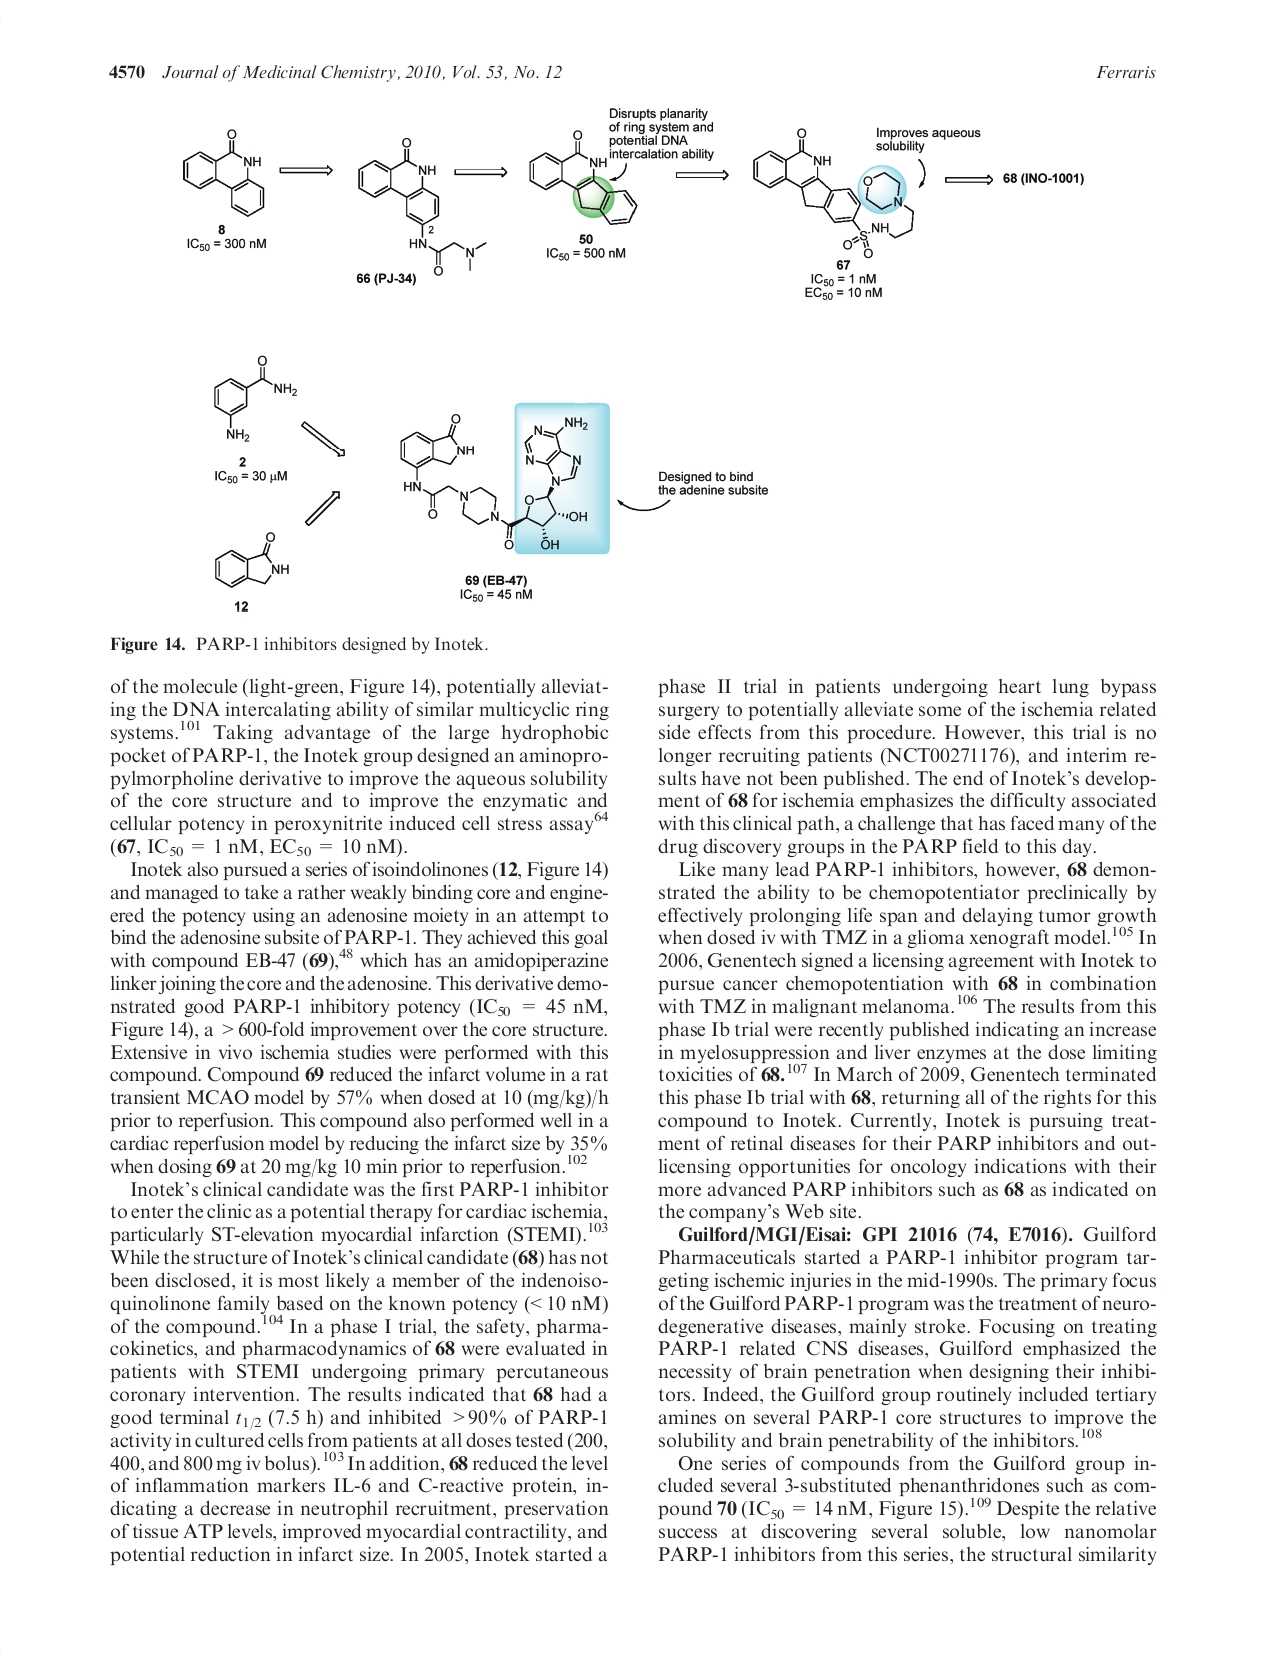exist_molecular: (396, 406, 602, 560), (743, 126, 914, 265), (358, 134, 489, 279), (523, 126, 642, 231), (177, 126, 271, 222), (211, 351, 302, 446), (213, 524, 293, 590)
